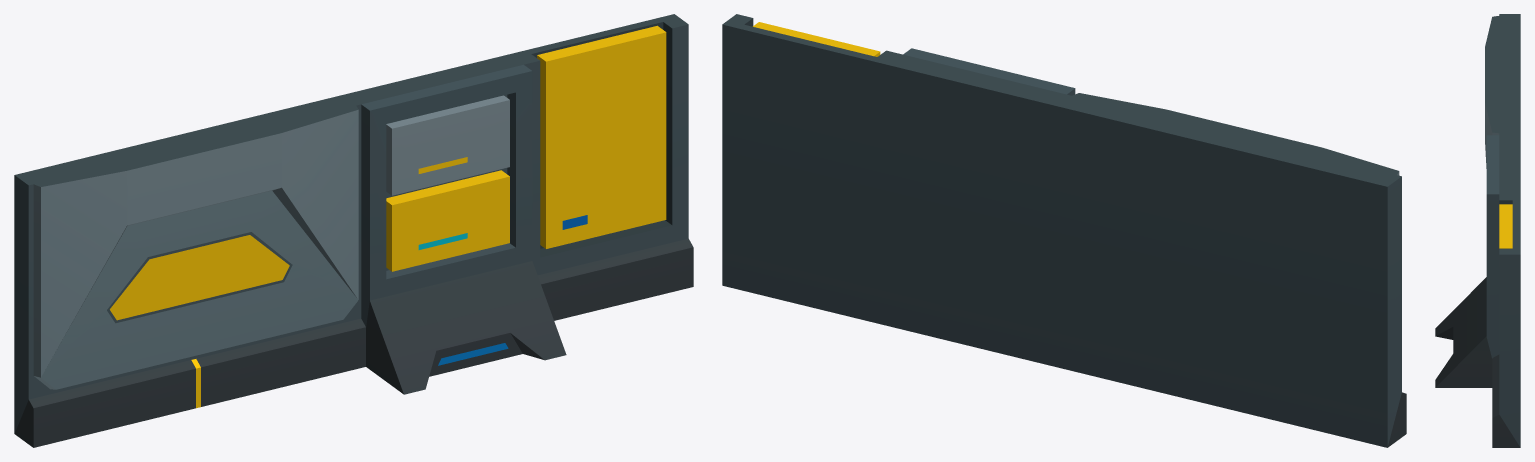
Rendered from Wall_type_C_033.fbx.
The picture shows the model from 3 angles, left to right: view 1: azimuth 30°, elevation 25°; view 2: azimuth 150°, elevation 25°; view 3: azimuth 270°, elevation 25°; orthographic projection. The views are drawn at different scales.
Parts seen in each view (by area): view 1: Wall_type_C_033; view 2: Wall_type_C_033; view 3: Wall_type_C_033.
Part boxes in pixels (<box>): Wall_type_C_033: <box>14,14,693,447</box>; Wall_type_C_033: <box>722,14,1406,447</box>; Wall_type_C_033: <box>1435,14,1520,447</box>.
Size of the model in its own units: 400 by 60 by 150.
